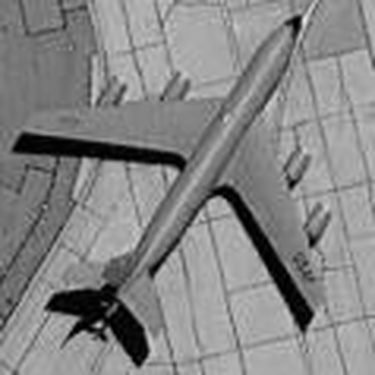airplane: (12, 6, 355, 357)
